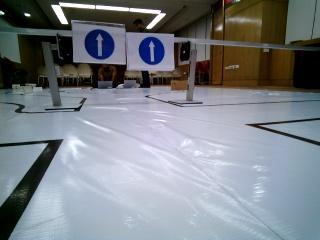straight: (76, 23, 129, 63), (126, 33, 178, 70)
